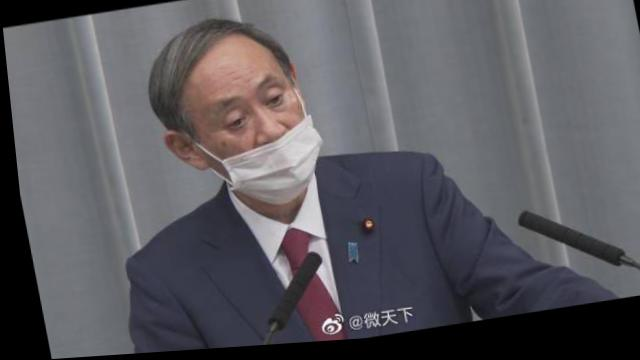WRONG: (196, 66, 321, 214)
